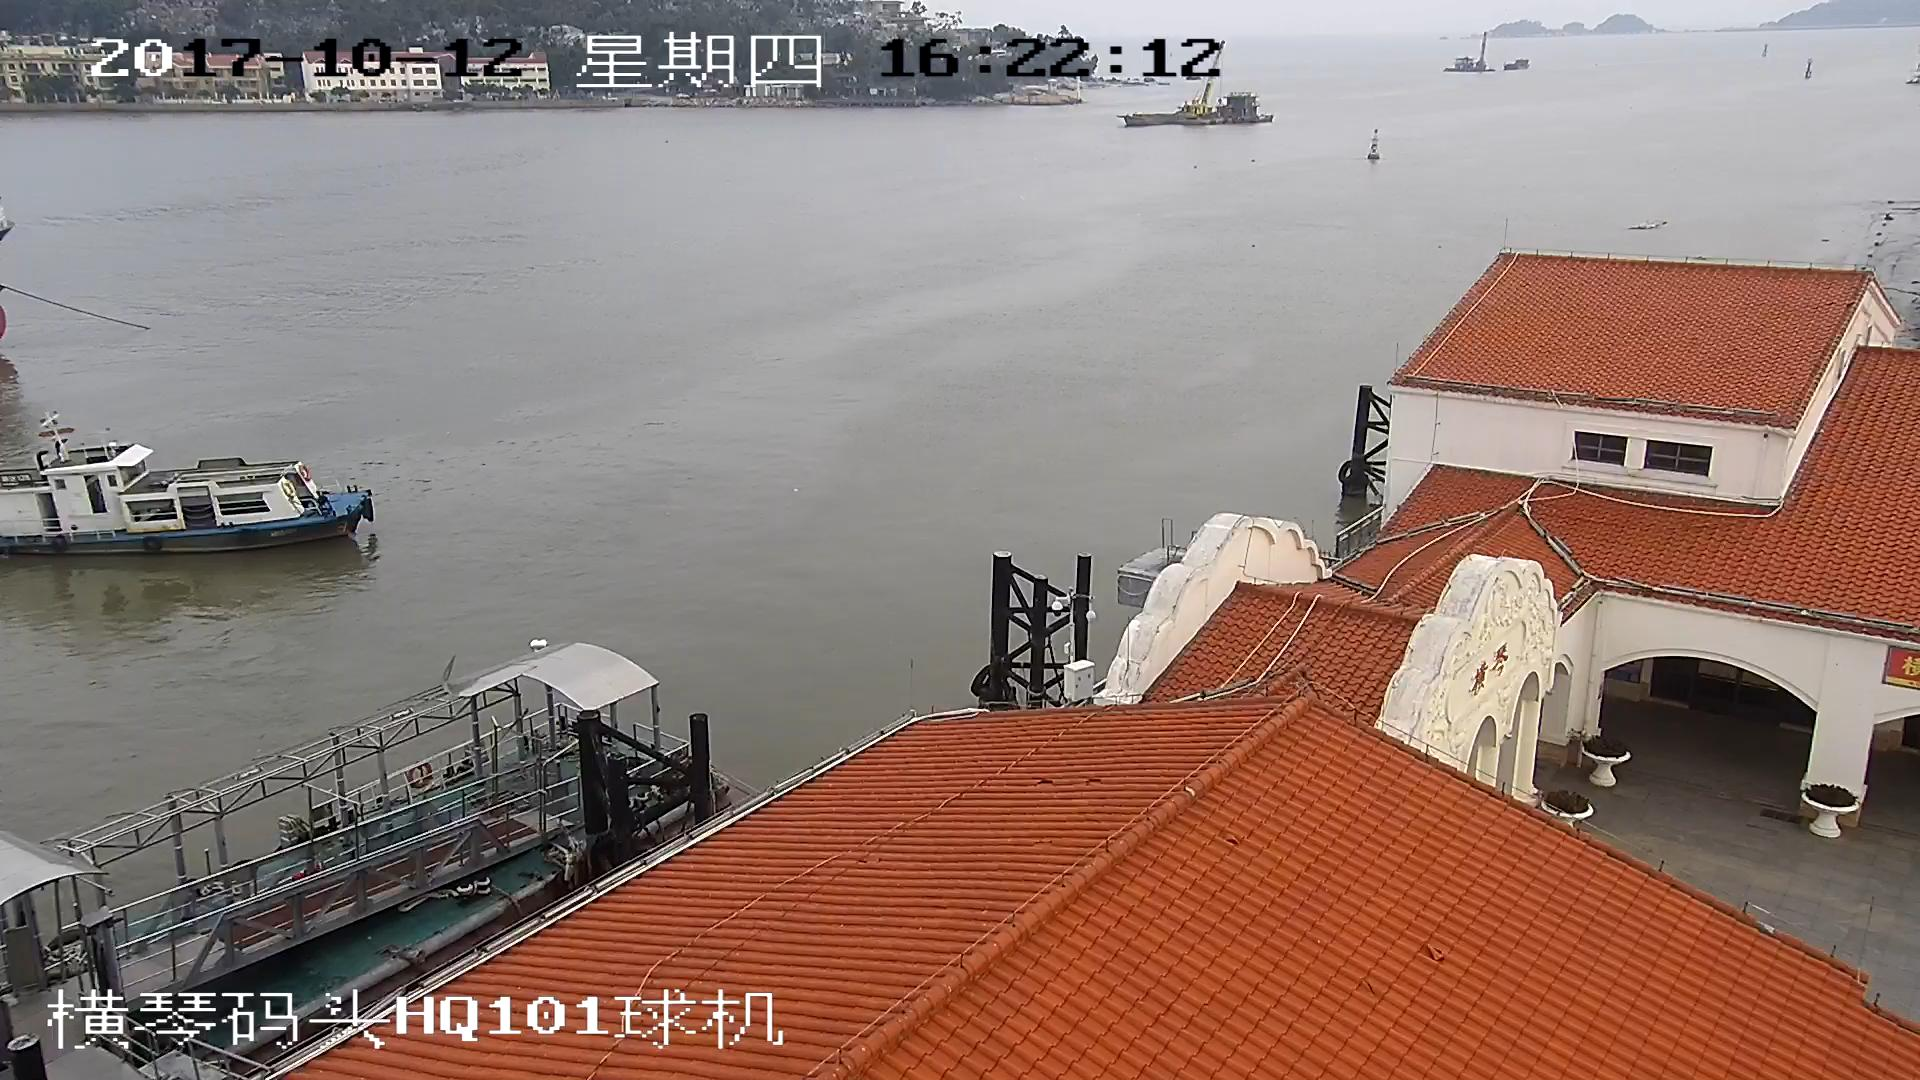fishing boat: (1, 410, 379, 542)
